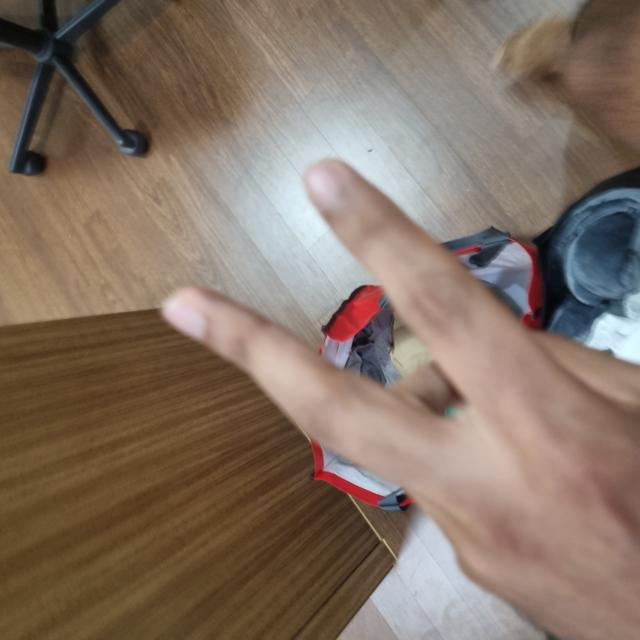Scissors: (0, 162, 480, 639)
